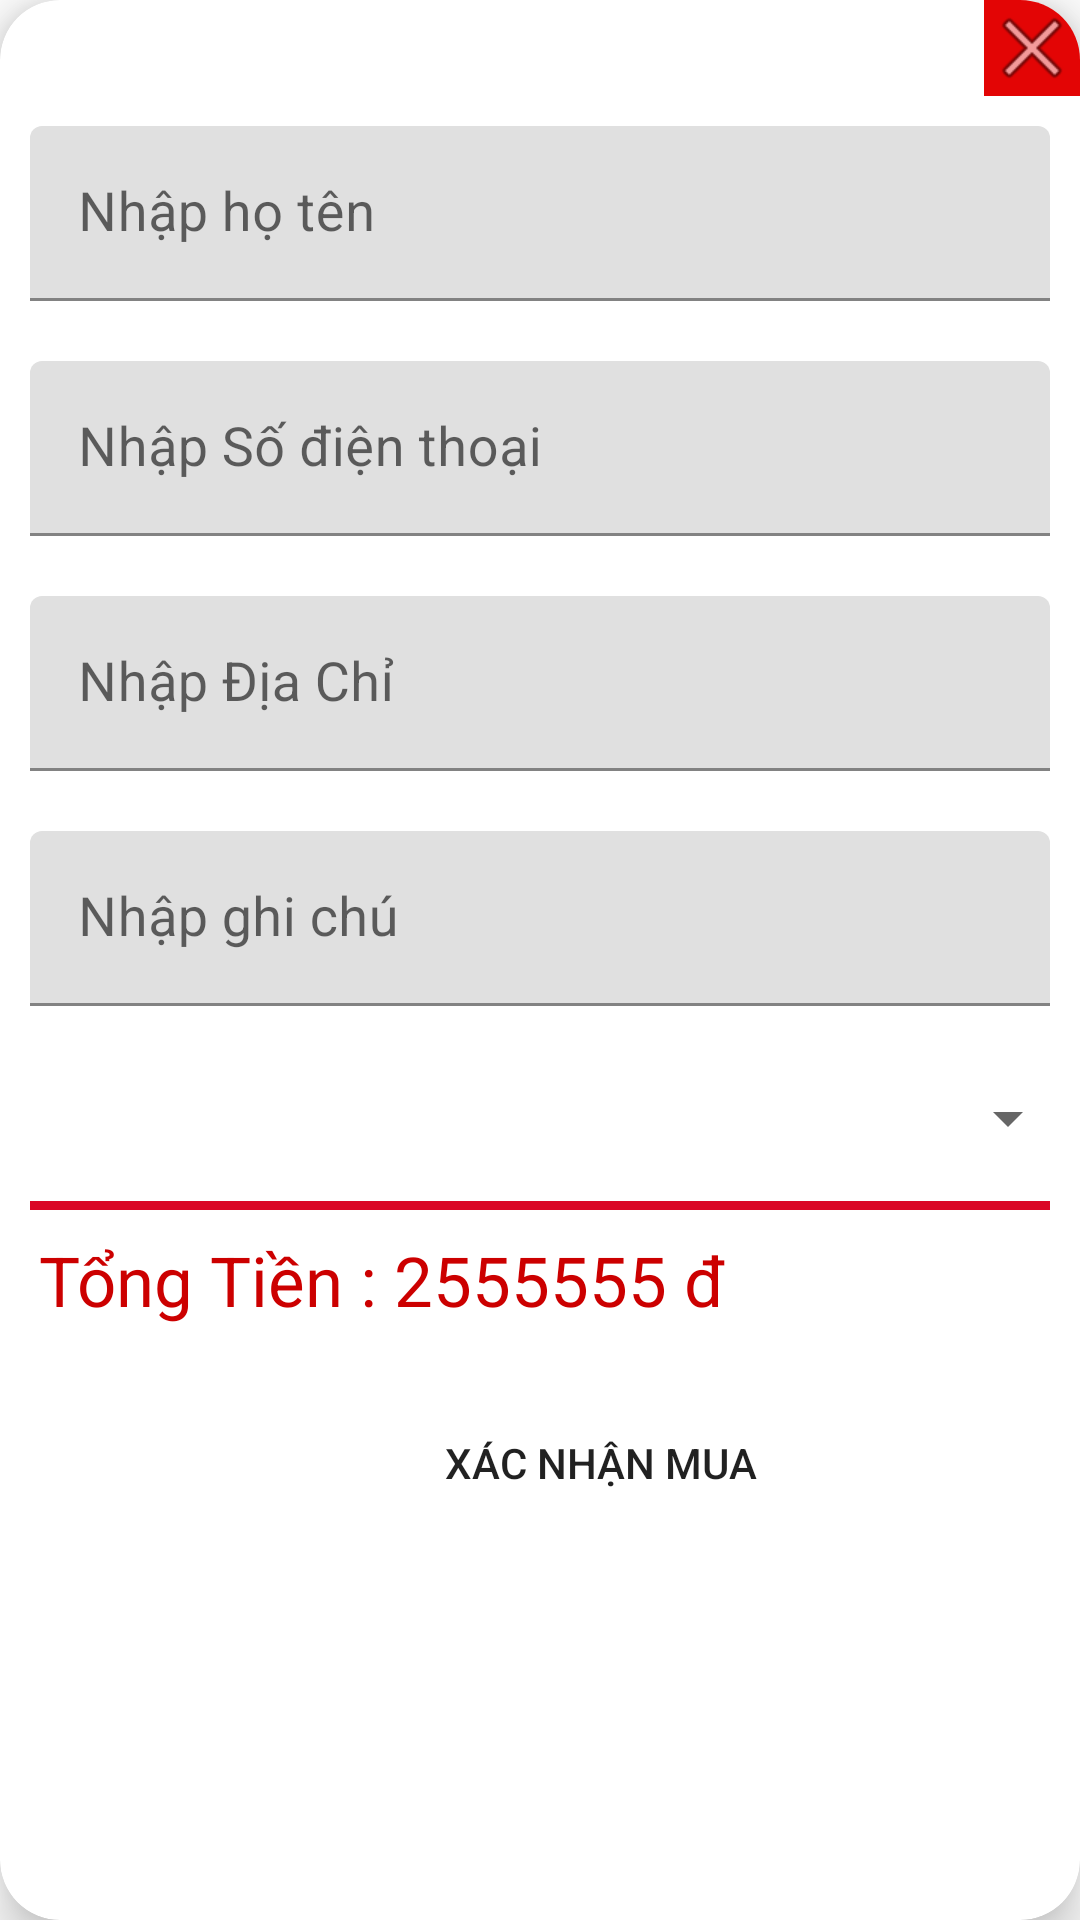

Icons on this 1080 × 1920 Android screen, each with the point to tap as (x=x, y=y):
close clear cancel: (x=1032, y=48)
